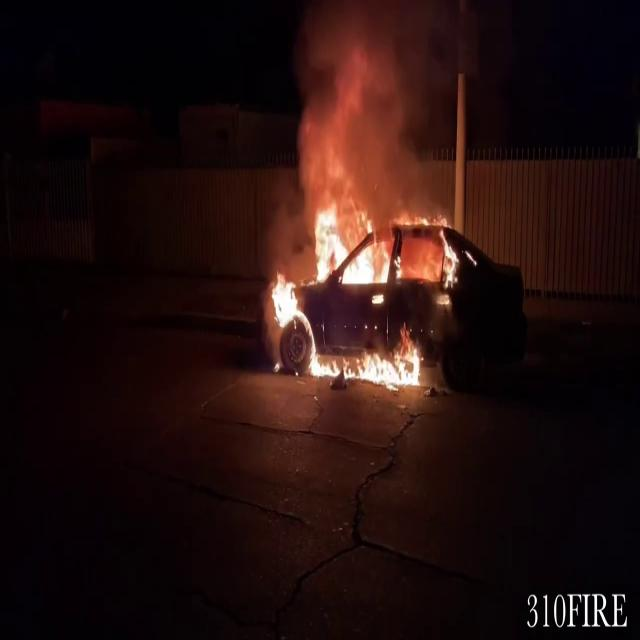Fire: (262, 193, 434, 387)
Smoke: (276, 0, 450, 198)
